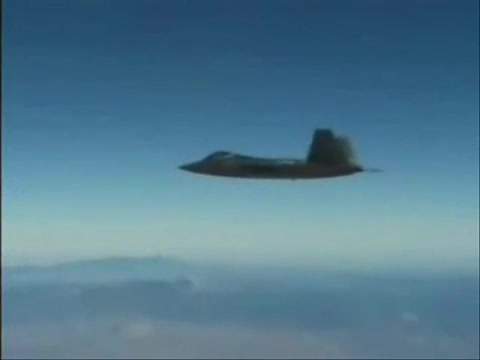aeroplane: (180, 127, 385, 183)
